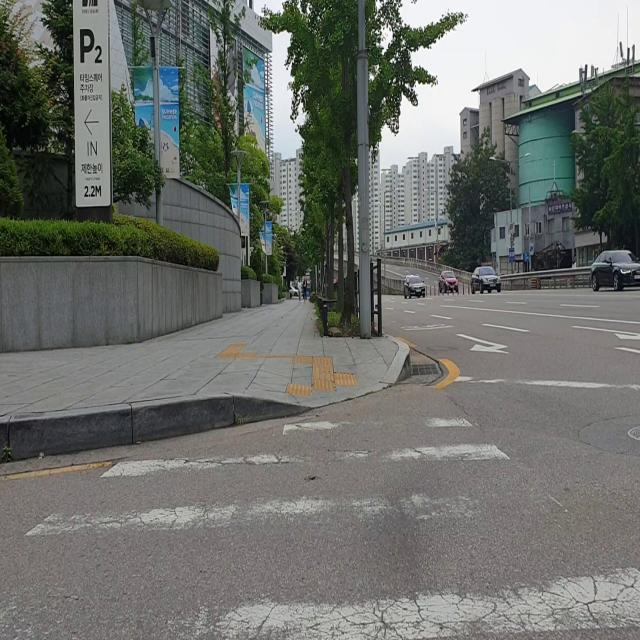횡단보도: (0, 411, 640, 640)
